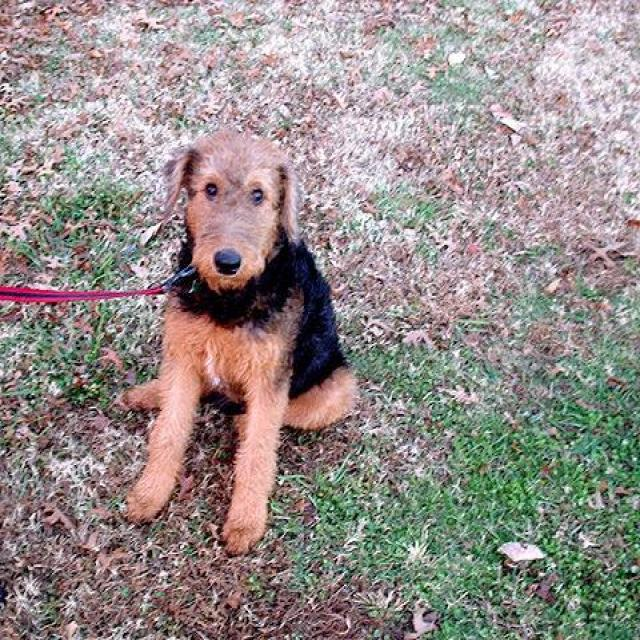airedale: (115, 127, 361, 544)
